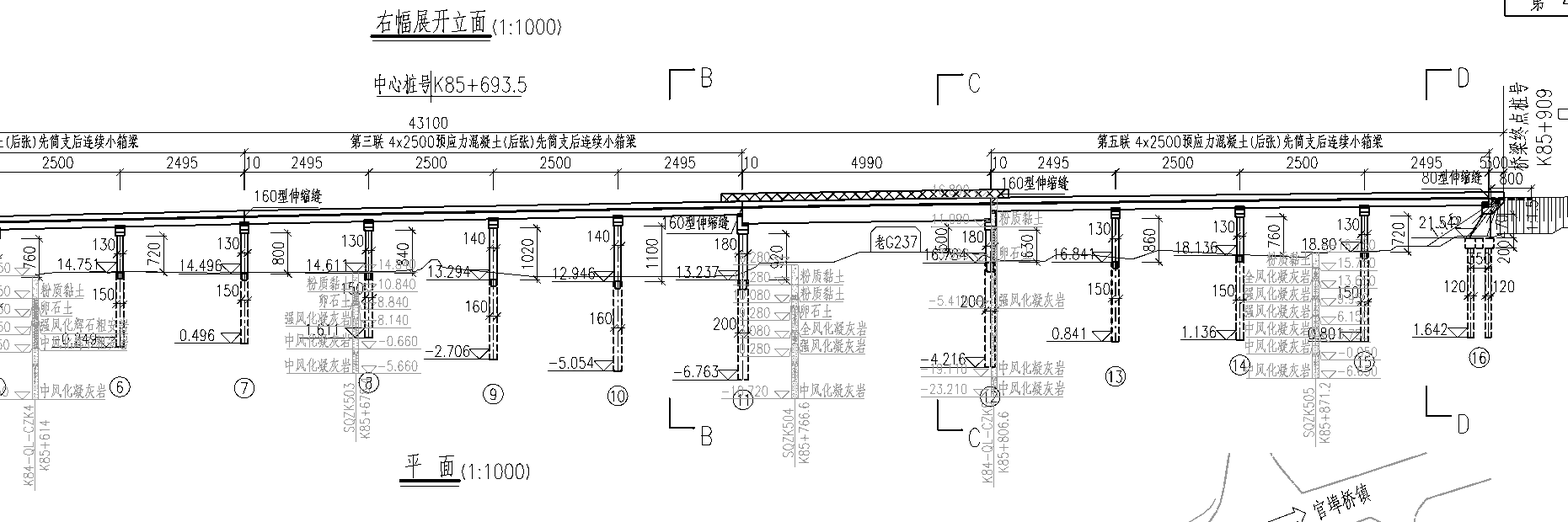C: (667, 216, 761, 414), (543, 210, 635, 411), (918, 212, 1009, 411), (167, 216, 262, 402), (1041, 201, 1133, 393), (424, 211, 510, 408), (1168, 201, 1255, 381), (51, 219, 136, 402), (1405, 210, 1496, 377), (307, 215, 384, 397), (1316, 199, 1378, 375)
